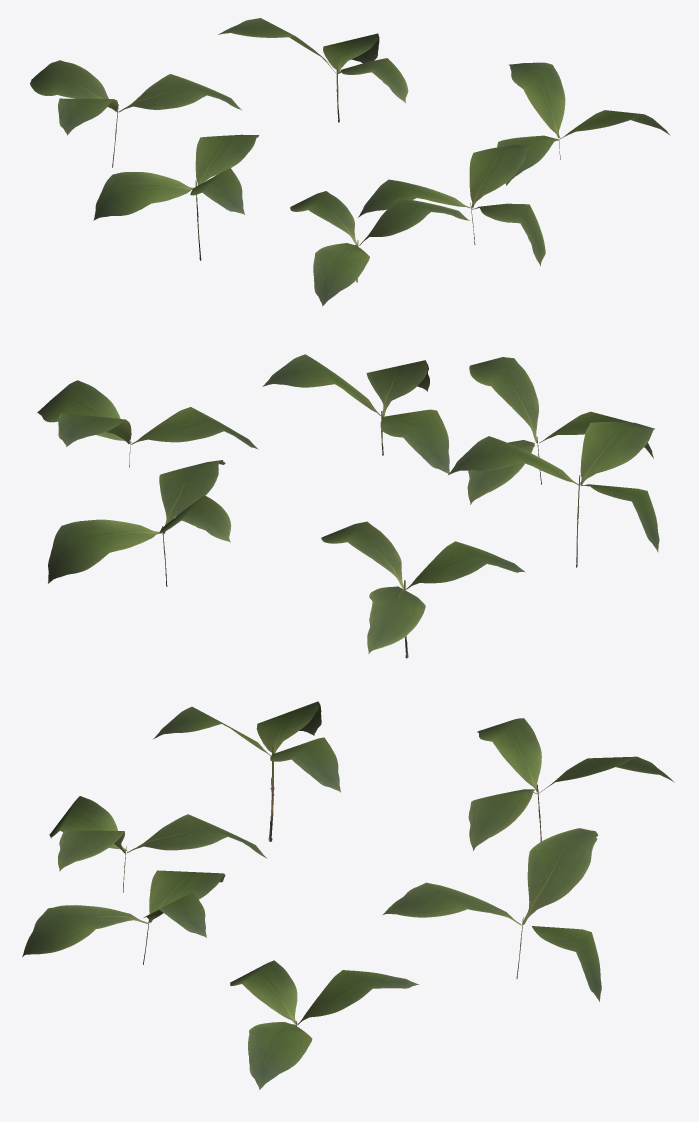
Rendered from Bush10.fbx.
The picture shows the model from 3 angles, top to bottom: view 1: azimuth 30°, elevation 25°; view 2: azimuth 150°, elevation 25°; view 3: azimuth 270°, elevation 25°; orthographic projection. The views are drawn at different scales.
Parts seen in each view (by area): view 1: LOD0; view 2: LOD0; view 3: LOD0.
Part boxes in pixels (x1,y1,x2,y2): LOD0: (30,18,670,306); LOD0: (37,354,659,658); LOD0: (22,701,674,1089).
Size of what is drawn, in the model's own units: 194 by 36.13 by 171.
